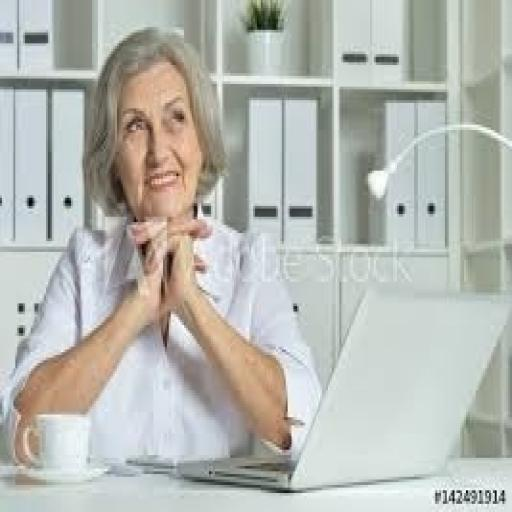using_laptop: (175, 276, 510, 493)
